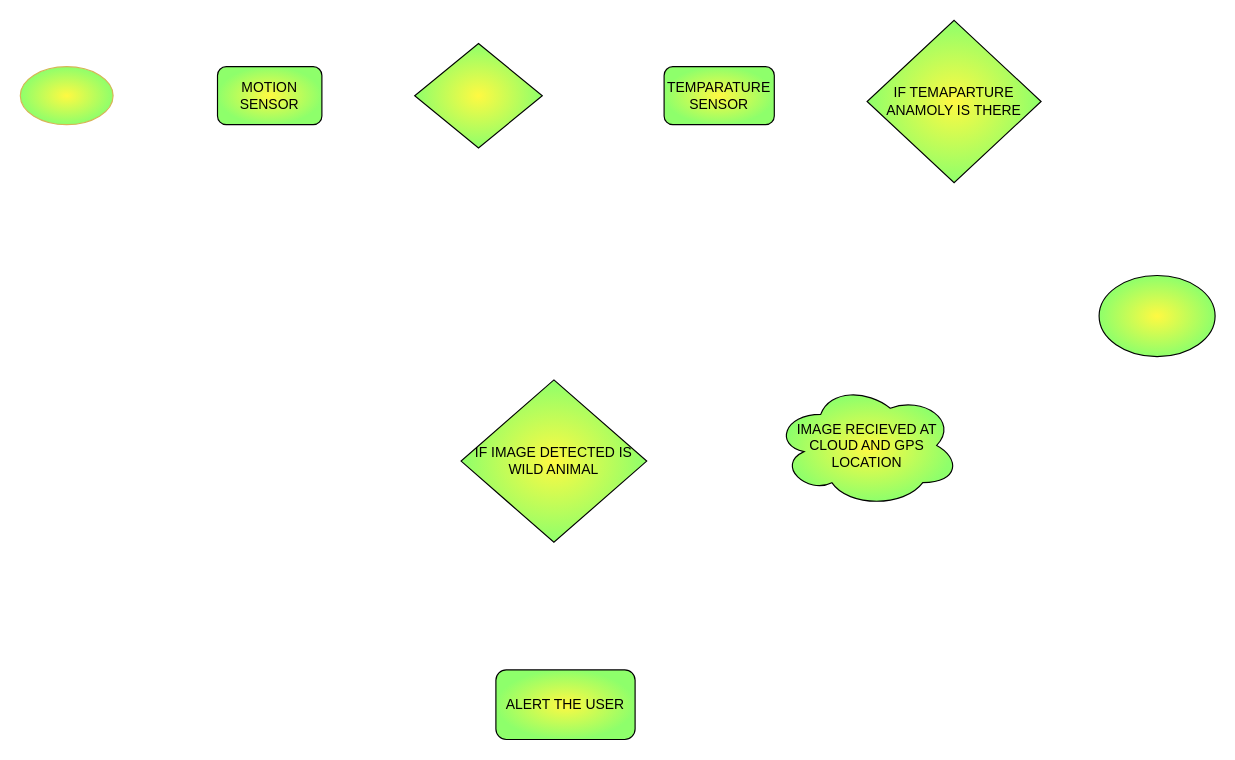
Image size: 1235x760. Some labels were removed from this diagram. The box of each missing label's shape, as (x1, y1, x2, y2) in pixels:
IF MOTION IS DETECTED: (414, 42, 542, 148)
START: (19, 66, 113, 125)
SWITCHES ON CAMERA: (1098, 274, 1215, 357)
